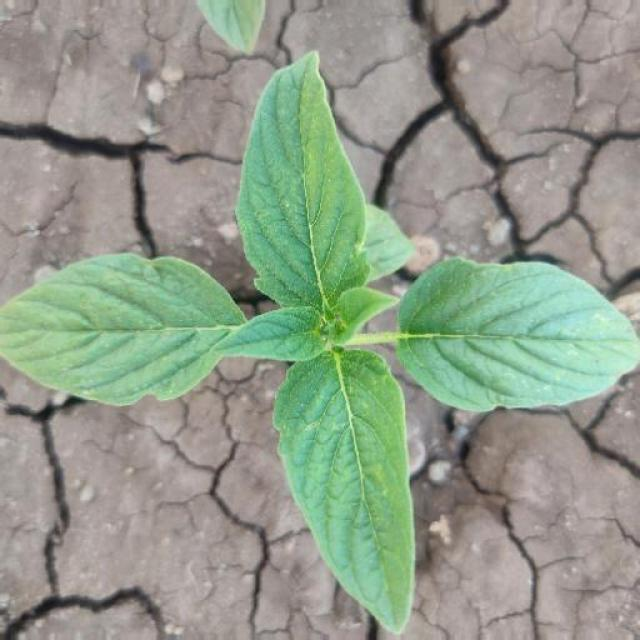crop: (12, 34, 640, 618)
